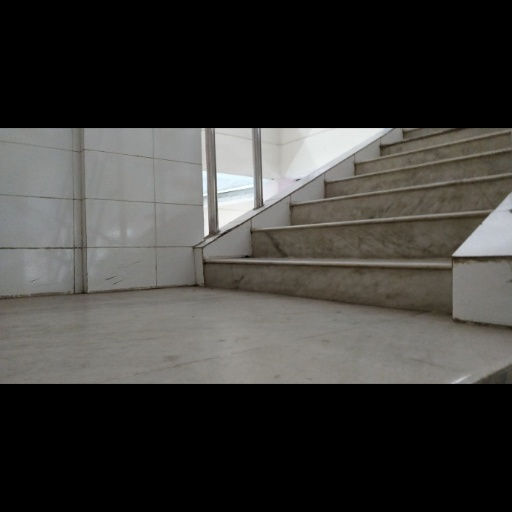Stairs: (205, 130, 512, 313)
